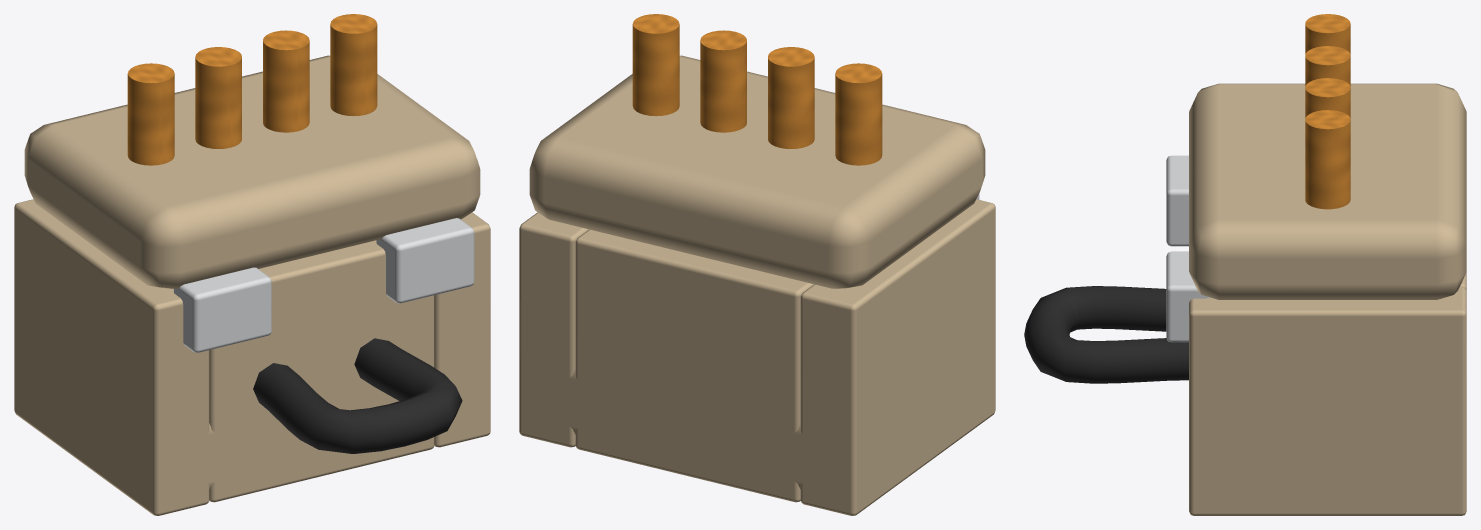
Rendered from fps-weapon-set-and-firing-range-shotgun-shell-box-d98dc4b0__19488.glb.
3 renders of one model, left to right at view 1: azimuth 30°, elevation 25°; view 2: azimuth 150°, elevation 25°; view 3: azimuth 270°, elevation 25°, orthographic. The views are drawn at different scales.
Visible parts, largest first — view 1: shotgun-shell-box, lid; view 2: shotgun-shell-box, lid; view 3: shotgun-shell-box, lid.
Boxes of the visible parts, x1,y1,x2,y2 form: shotgun-shell-box: [14, 14, 490, 515]; lid: [24, 55, 480, 288]; shotgun-shell-box: [519, 14, 995, 515]; lid: [529, 55, 985, 288]; shotgun-shell-box: [1024, 14, 1466, 515]; lid: [1189, 83, 1466, 299].
Size of the model in its own units: 0.15 by 0.16 by 0.1753.
Materials: 4 (1 with a texture image).
